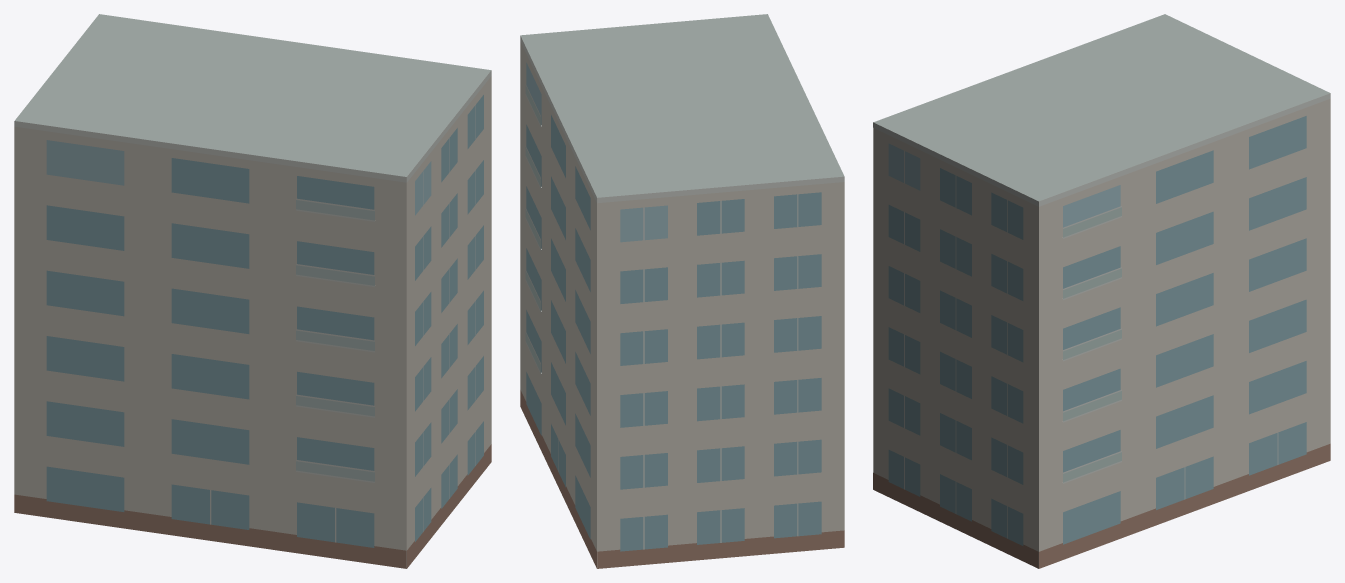
Rendered from survey-upis-32638886.glb.
3 renders of one model, left to right at view 1: azimuth 30°, elevation 25°; view 2: azimuth 150°, elevation 25°; view 3: azimuth 270°, elevation 25°, orthographic. The views are drawn at different scales.
Visible parts, largest first — view 1: survey-upis-32638886.tmp; view 2: survey-upis-32638886.tmp; view 3: survey-upis-32638886.tmp.
Part boxes in pixels (<box>): survey-upis-32638886.tmp: <box>14,14,491,568</box>; survey-upis-32638886.tmp: <box>520,14,844,568</box>; survey-upis-32638886.tmp: <box>873,14,1330,568</box>.
Bounding box in the file's own units: 18.28 × 16.7 × 18.85.
